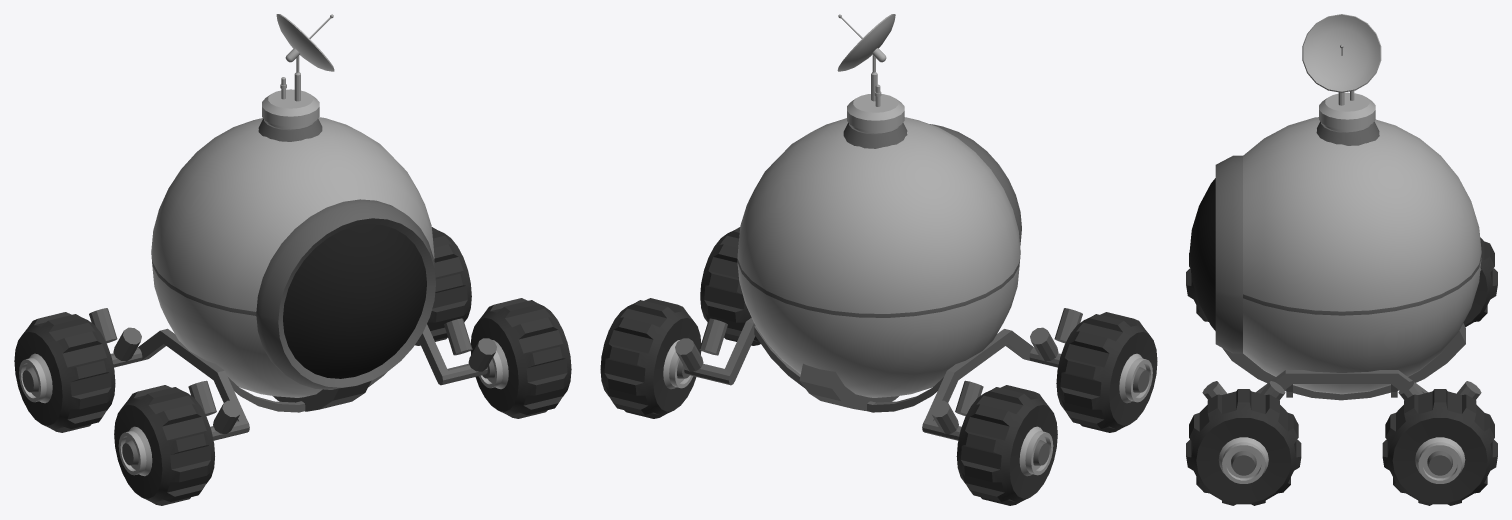
Rendered from Rover_Round-transformed.glb.
3 renders of one model, left to right at view 1: azimuth 30°, elevation 25°; view 2: azimuth 150°, elevation 25°; view 3: azimuth 270°, elevation 25°, orthographic.
Parts seen in each view (by area): view 1: Wheel_1; view 2: Wheel_1; view 3: Wheel_1.
Part boxes in pixels (x1,y1,x2,y2): Wheel_1: (14, 14, 571, 505); Wheel_1: (600, 14, 1157, 505); Wheel_1: (1186, 14, 1497, 505).
Bounding box in the file's own units: 5.79 × 5.17 × 3.69.
Materials: 1 (1 with a texture image).
